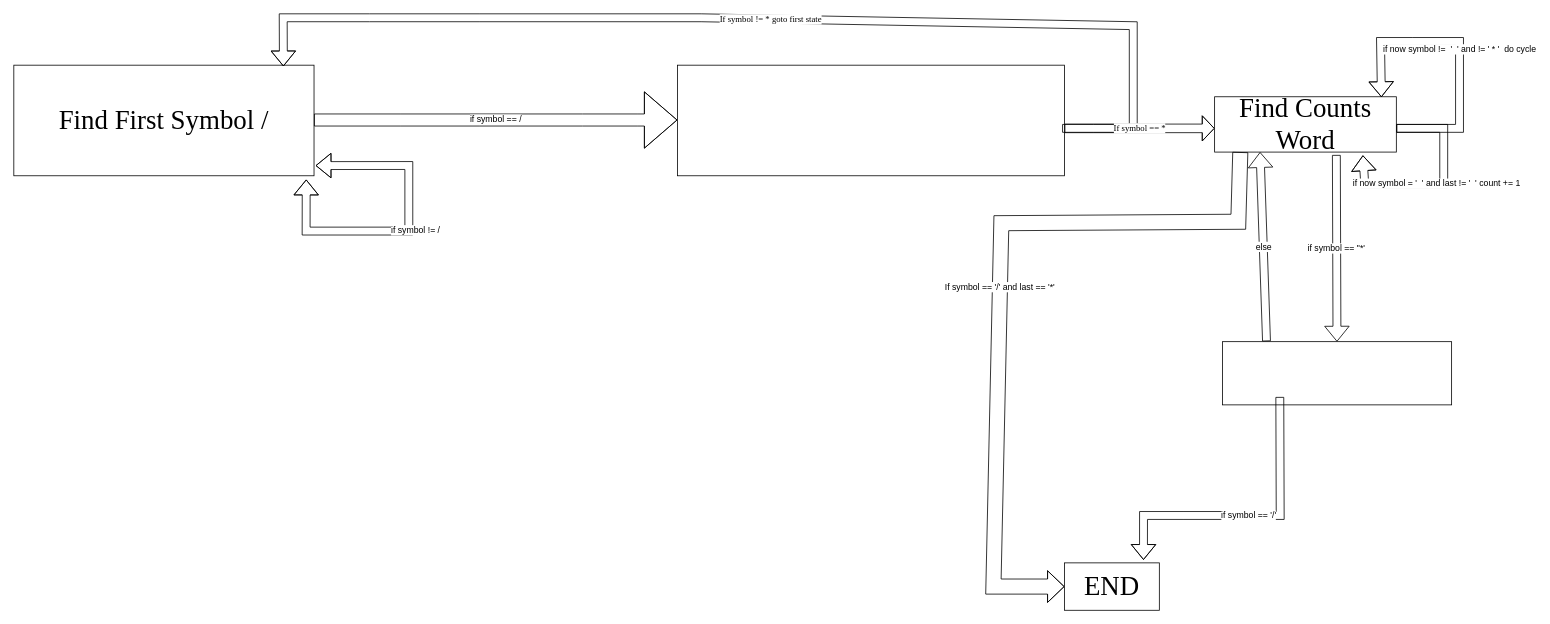
Image size: 1550x624. Some labels were removed from this diagram. Here are the shapes that lost their labels. From the top down, the centre of each, then its label:
At point 871,120: "Find Second Symbol *".
At point 1337,373: "FInd Second Symbol / Finish".
